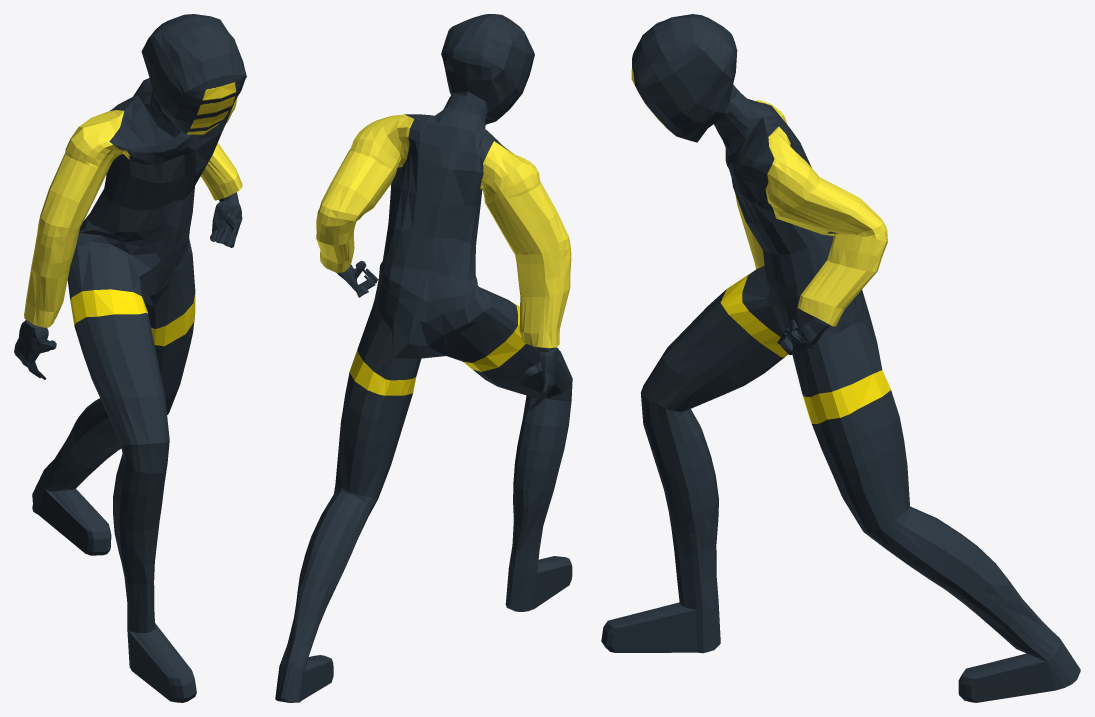
The model's file is Sentry_Stun_000011.obj.
3 views of the same model, side by side, from view 1: azimuth 30°, elevation 25°; view 2: azimuth 150°, elevation 25°; view 3: azimuth 270°, elevation 25° (orthographic). The views are drawn at different scales.
Parts seen in each view (by area): view 1: Cube; view 2: Cube; view 3: Cube.
Part boxes in pixels (left/top/right/bottom): Cube: left=14, top=14, right=246, bottom=702; Cube: left=275, top=14, right=572, bottom=702; Cube: left=601, top=14, right=1080, bottom=702.
Bounding box in the file's own units: 1.31 × 3.37 × 2.23.
